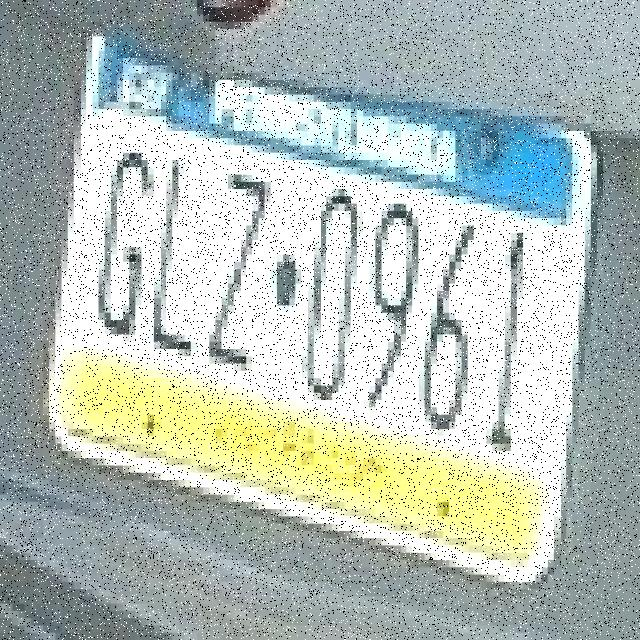licenseplate: (38, 8, 587, 600)
